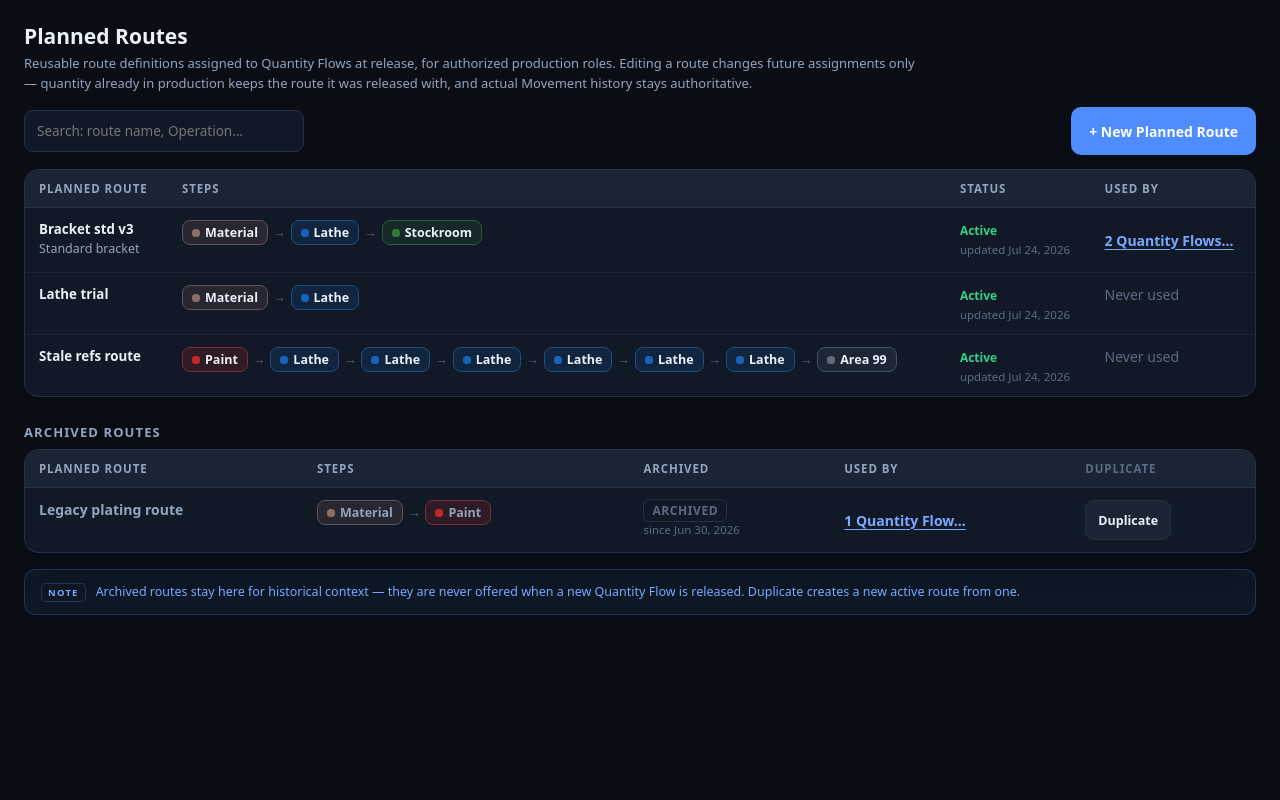
Scenario: a failed usage load offers Retry
The width and height of the screenshot is (1280, 800).
Expected: the text "Bracket std v3" is shown, [39,220,134,238]
Expected: the row that starts with "Bracket std v3" is shown, [25,208,1255,273]
Step 1. Click the button "2 Quantity Flows…" → point(1169, 240), box [1105,220,1234,260]
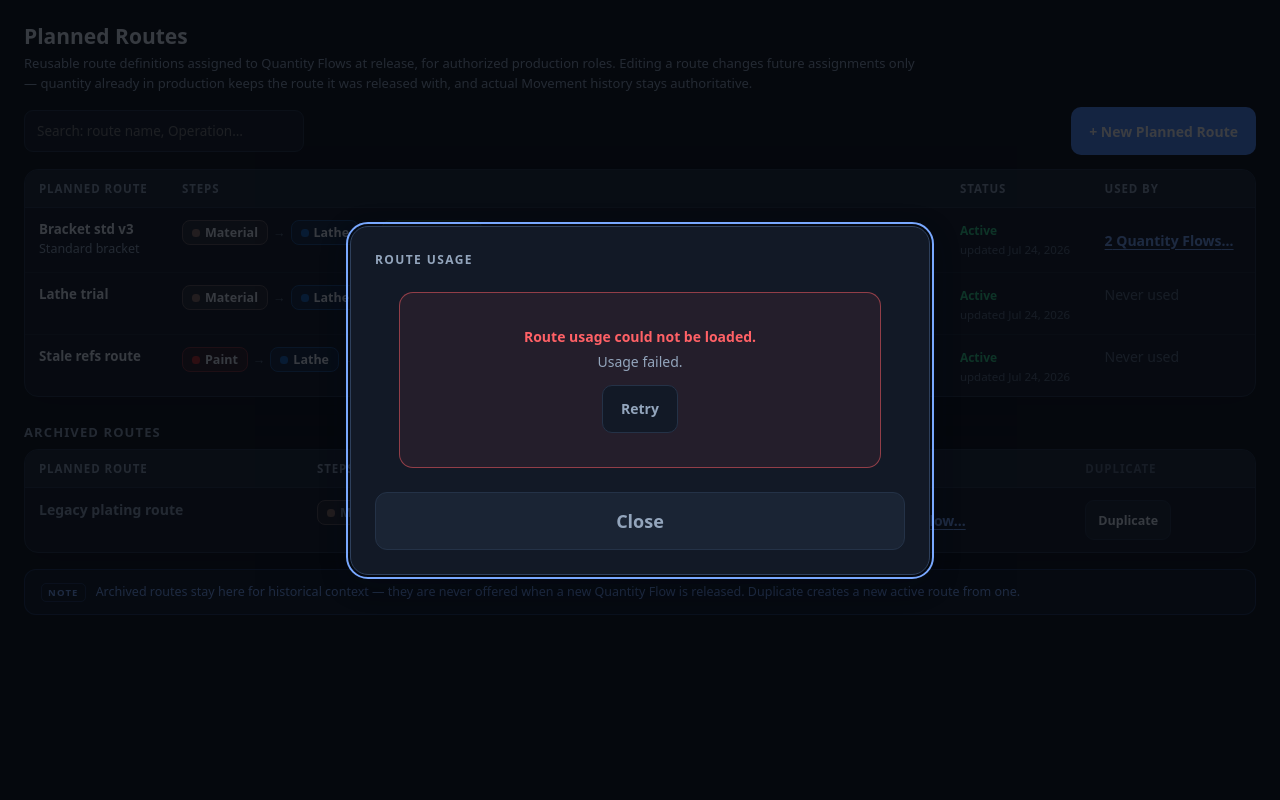
Expected: the message shows "Route usage could not be loaded.", [524,326,756,346]
Step 2. Click the button "Retry" → point(640, 408), box [602,384,678,432]
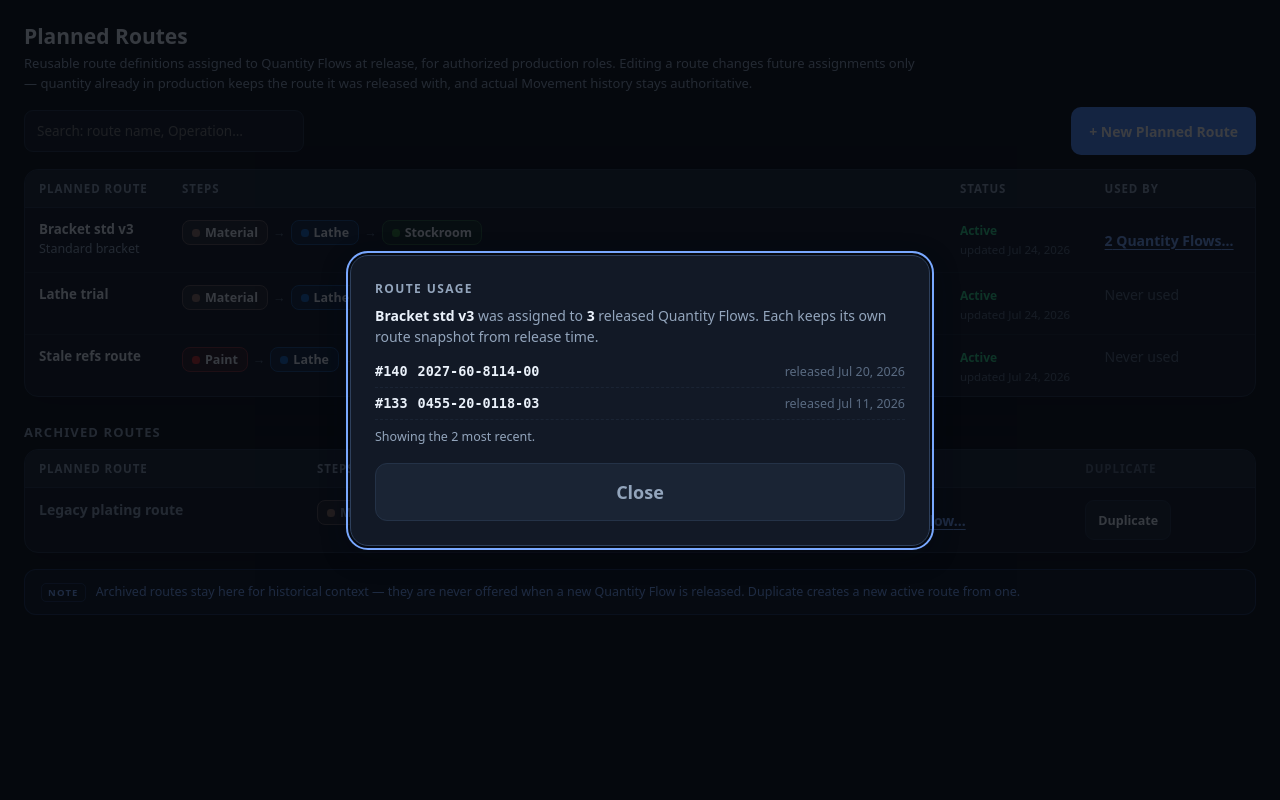
Expected: the text "#140" is shown, [375,362,408,378]
